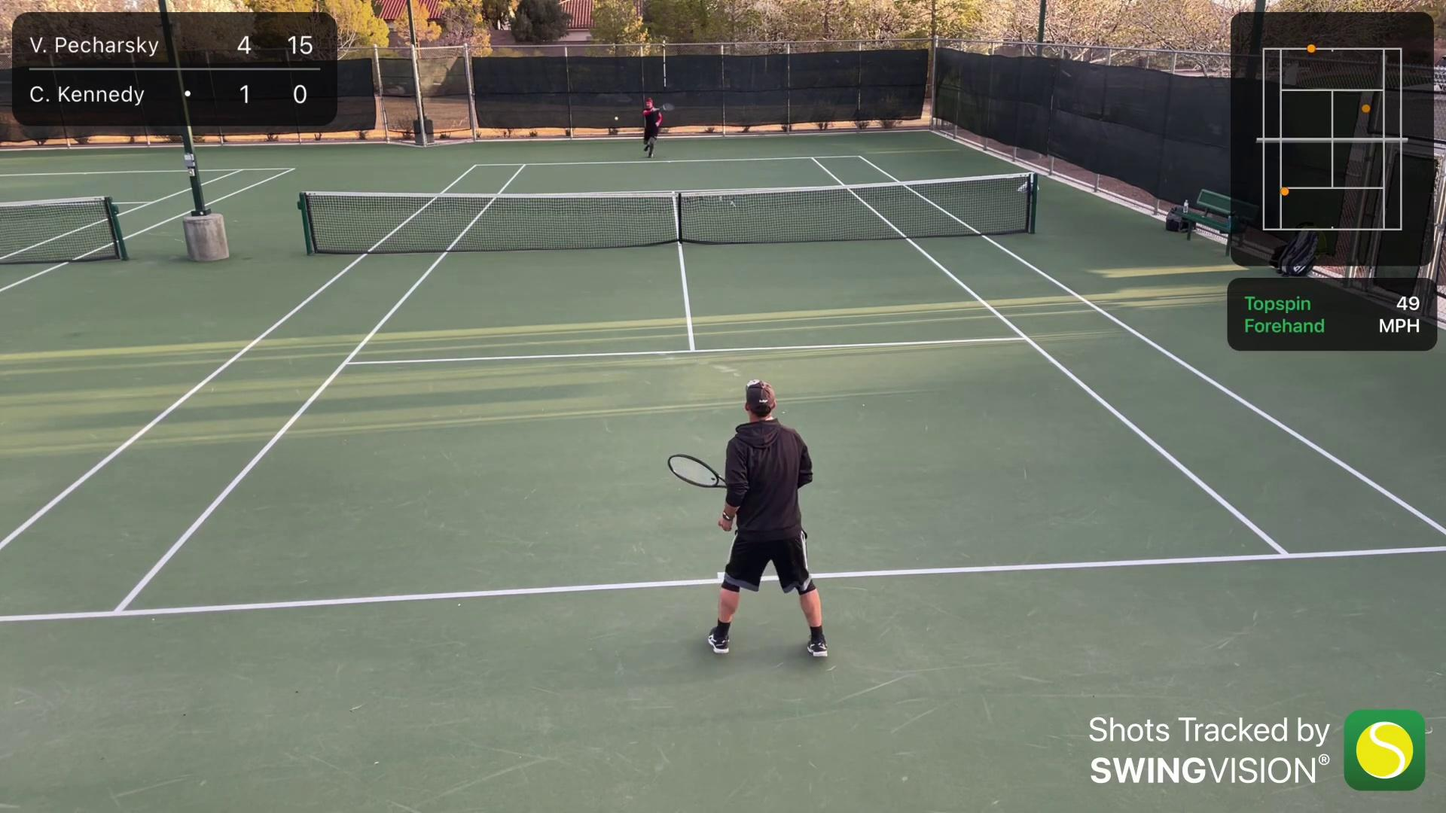ball: (613, 114, 620, 121)
